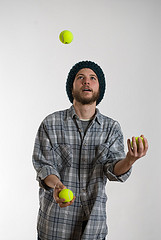tennis ball: (128, 134, 150, 154), (58, 27, 75, 48), (57, 187, 76, 205)
